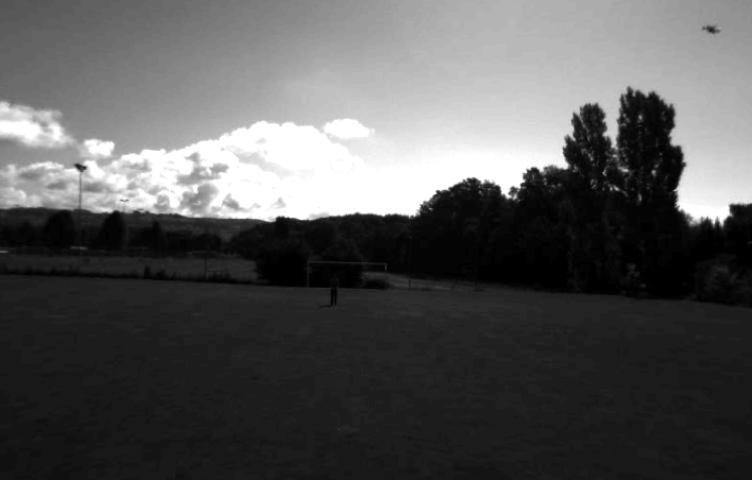drone: (696, 18, 728, 39)
